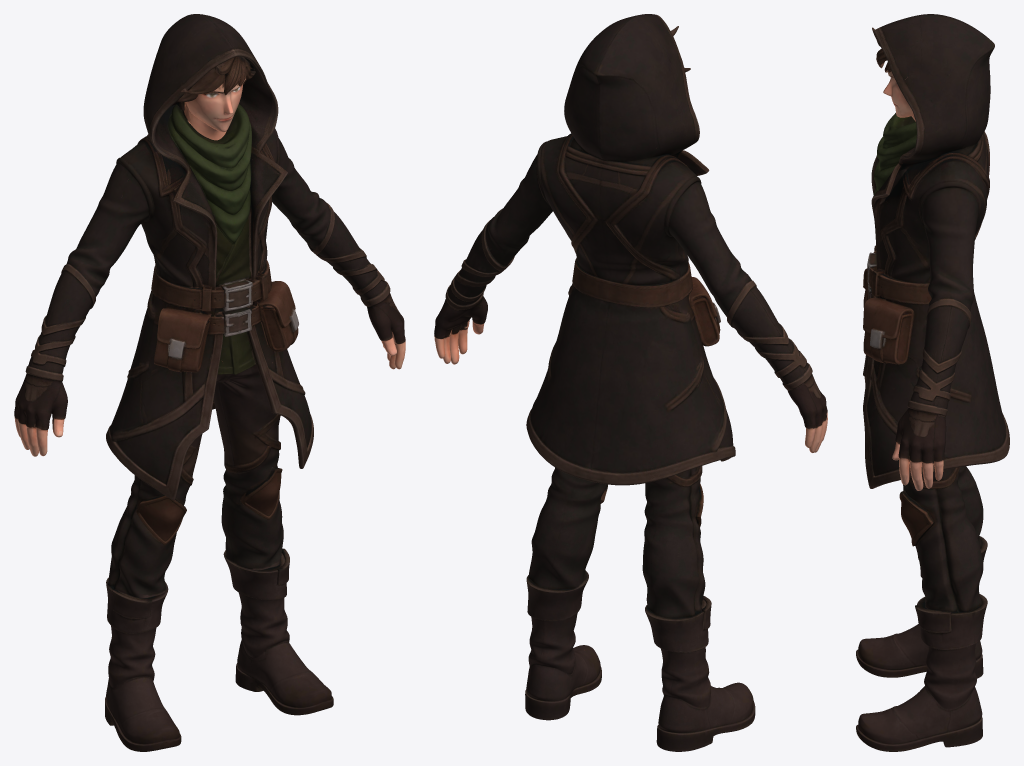
File: hero.glb
The picture shows the model from 3 angles, left to right: view 1: azimuth 30°, elevation 25°; view 2: azimuth 150°, elevation 25°; view 3: azimuth 270°, elevation 25°; orthographic projection.
Visible parts, largest first — view 1: hooded-rogue; view 2: hooded-rogue; view 3: hooded-rogue.
Boxes of the visible parts, x1=… form: hooded-rogue: x1=14, y1=14, x2=405, y2=751; hooded-rogue: x1=434, y1=14, x2=827, y2=751; hooded-rogue: x1=856, y1=14, x2=1009, y2=751.
Size of the model in its own units: 1.02 by 1.78 by 0.3606.
1 material, 1 textured.
